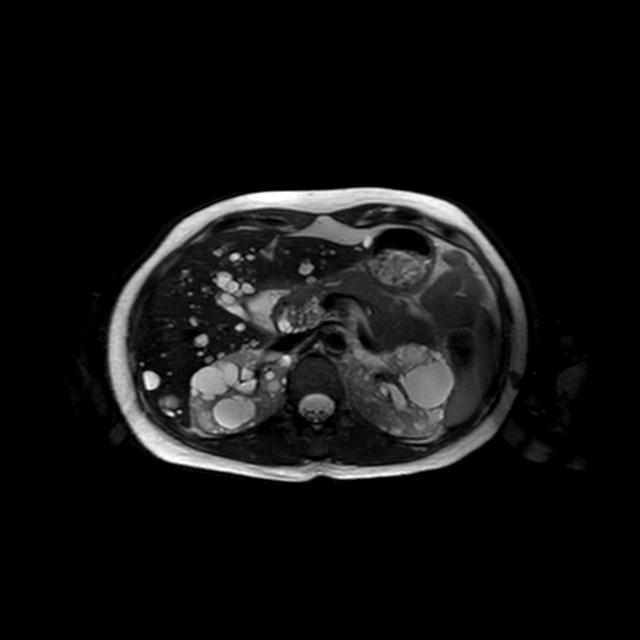sag: (190, 349, 299, 436)
sol: (343, 343, 458, 438)
